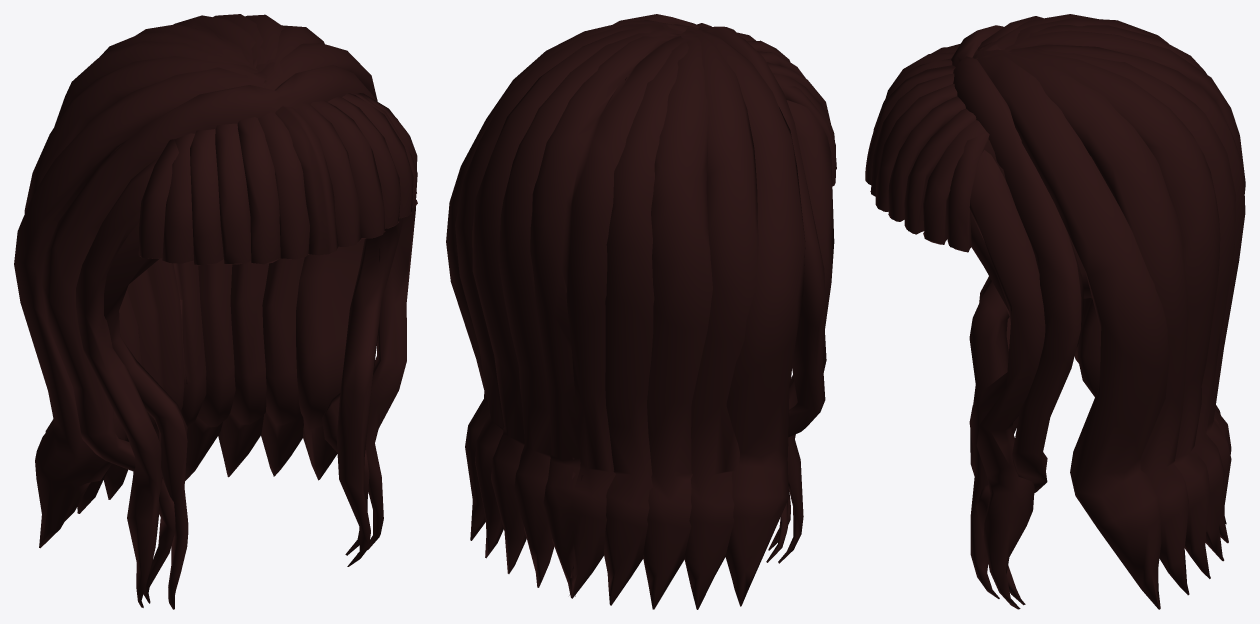
File: hair-1-6aa31b29.glb
3 views of the same model, side by side, from view 1: azimuth 30°, elevation 25°; view 2: azimuth 150°, elevation 25°; view 3: azimuth 270°, elevation 25° (orthographic). The views are drawn at different scales.
Parts seen in each view (by area): view 1: hair_1.001; view 2: hair_1.001; view 3: hair_1.001.
Boxes of the visible parts, bbox=[...] form: hair_1.001: bbox=[14, 14, 417, 609]; hair_1.001: bbox=[446, 14, 836, 609]; hair_1.001: bbox=[865, 14, 1245, 609].
Size of the model in its own units: 2.14 by 3.02 by 2.01.
